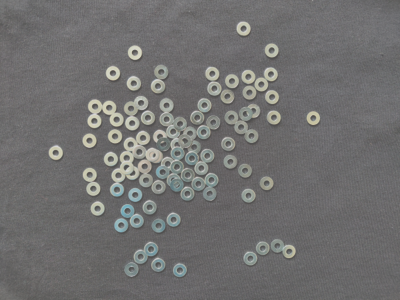circle: (88, 200, 107, 219), (235, 20, 252, 38), (153, 64, 171, 81), (80, 167, 98, 184), (263, 66, 280, 83), (124, 262, 141, 279), (139, 110, 156, 127), (150, 219, 168, 235), (166, 212, 182, 230), (127, 44, 143, 62), (158, 98, 176, 114), (282, 245, 299, 261), (267, 110, 284, 126), (204, 67, 221, 83), (151, 258, 168, 274), (142, 242, 159, 258), (88, 98, 104, 115), (126, 76, 143, 92), (123, 101, 139, 118), (181, 186, 197, 203), (103, 152, 119, 169), (306, 111, 322, 127), (238, 163, 254, 179), (238, 106, 254, 122), (82, 133, 98, 149), (106, 67, 122, 83), (85, 182, 101, 198), (221, 137, 238, 152), (198, 97, 213, 114), (88, 114, 103, 131), (110, 182, 125, 199), (243, 253, 259, 268), (242, 189, 257, 205), (265, 90, 281, 105), (223, 155, 239, 170), (245, 129, 260, 145), (224, 110, 239, 126), (247, 104, 262, 120), (241, 70, 257, 85), (207, 82, 223, 97), (172, 264, 188, 279), (197, 125, 212, 141), (108, 129, 123, 145), (125, 116, 141, 131), (194, 161, 210, 176), (128, 188, 143, 204), (138, 158, 153, 174), (260, 176, 274, 193), (221, 89, 235, 106), (225, 74, 240, 89), (151, 80, 166, 95), (134, 96, 149, 111), (157, 137, 172, 152), (181, 168, 196, 183), (130, 214, 145, 229), (136, 131, 151, 146), (256, 241, 270, 257), (265, 44, 281, 58), (233, 121, 249, 135), (191, 110, 205, 126), (159, 113, 175, 127), (192, 177, 206, 193), (169, 179, 185, 193), (113, 219, 129, 233), (133, 145, 147, 161), (123, 138, 139, 152), (207, 116, 221, 131), (50, 146, 64, 161), (103, 100, 117, 115), (167, 124, 182, 138), (200, 149, 215, 163), (153, 130, 168, 144), (203, 187, 218, 201), (166, 174, 181, 188), (156, 166, 170, 181), (152, 181, 166, 196), (143, 201, 158, 215), (139, 174, 154, 188), (146, 148, 160, 163), (111, 169, 126, 183), (120, 151, 135, 165), (162, 157, 175, 173), (120, 205, 136, 218), (271, 240, 285, 254), (255, 78, 269, 92), (243, 86, 257, 100), (134, 251, 148, 265), (110, 113, 124, 127), (183, 127, 197, 141), (171, 147, 185, 161), (185, 152, 199, 166), (150, 150, 164, 164), (126, 167, 140, 181), (120, 161, 134, 175), (174, 117, 187, 132), (171, 161, 184, 176), (179, 135, 193, 148), (187, 141, 201, 154), (172, 138, 186, 151), (205, 175, 220, 187)
